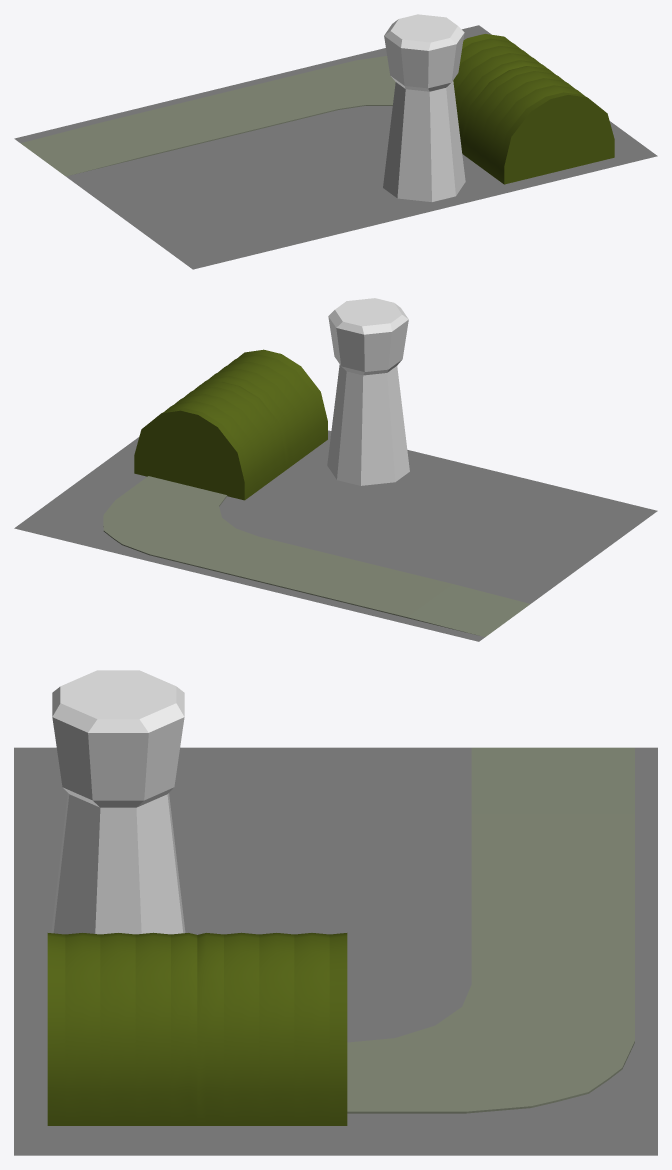
The model's file is 3x2_Runway.glb.
3 renders of one model, top to bottom at view 1: azimuth 30°, elevation 25°; view 2: azimuth 150°, elevation 25°; view 3: azimuth 270°, elevation 25°, orthographic. The views are drawn at different scales.
Parts seen in each view (by area): view 1: 3x2_Runway.col; view 2: 3x2_Runway.col; view 3: 3x2_Runway.col.
Part boxes in pixels (x1=…): 3x2_Runway.col: x1=14, y1=14, x2=657, y2=269; 3x2_Runway.col: x1=14, y1=298, x2=657, y2=641; 3x2_Runway.col: x1=14, y1=670, x2=657, y2=1155.
Bounding box in the file's own units: 60 × 19.28 × 40.
